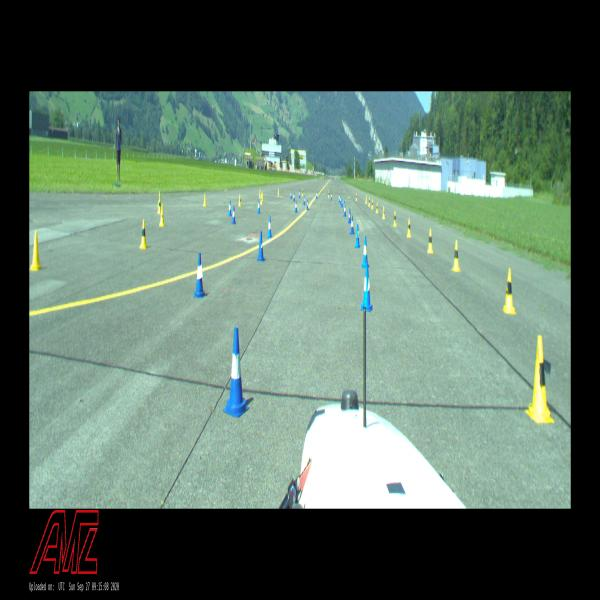blue_cone: (223, 327, 249, 417), (360, 264, 372, 312), (193, 253, 205, 298), (257, 231, 265, 261), (362, 236, 369, 268), (354, 224, 360, 248), (267, 216, 272, 238), (231, 206, 236, 224), (350, 215, 354, 234), (228, 200, 232, 216), (294, 200, 298, 213), (348, 209, 351, 223), (257, 200, 260, 213), (344, 203, 346, 216), (343, 200, 345, 212), (306, 199, 308, 210), (293, 192, 295, 202), (341, 198, 343, 207), (290, 190, 292, 199), (303, 195, 305, 204), (298, 190, 300, 198), (338, 194, 340, 202), (316, 190, 317, 199), (340, 196, 341, 204), (331, 193, 332, 200)
yellow_cone: (526, 336, 555, 422), (502, 268, 516, 314), (30, 231, 42, 271), (452, 241, 461, 271), (139, 220, 147, 248), (159, 205, 165, 226), (428, 229, 433, 253), (407, 219, 411, 237), (393, 211, 397, 226), (203, 193, 207, 206), (157, 190, 160, 207), (158, 197, 161, 213), (382, 206, 385, 219), (238, 194, 241, 206), (368, 197, 371, 206), (260, 193, 262, 205), (376, 202, 378, 213), (262, 190, 264, 201), (372, 199, 374, 209), (259, 188, 261, 198), (328, 190, 330, 198), (365, 196, 367, 204), (278, 187, 279, 196), (302, 188, 303, 196), (356, 194, 357, 201)
